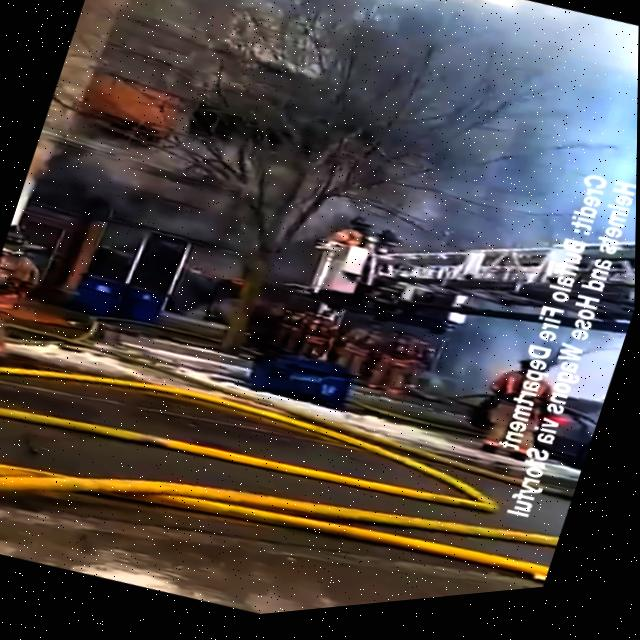Smoke: (278, 0, 622, 309)
